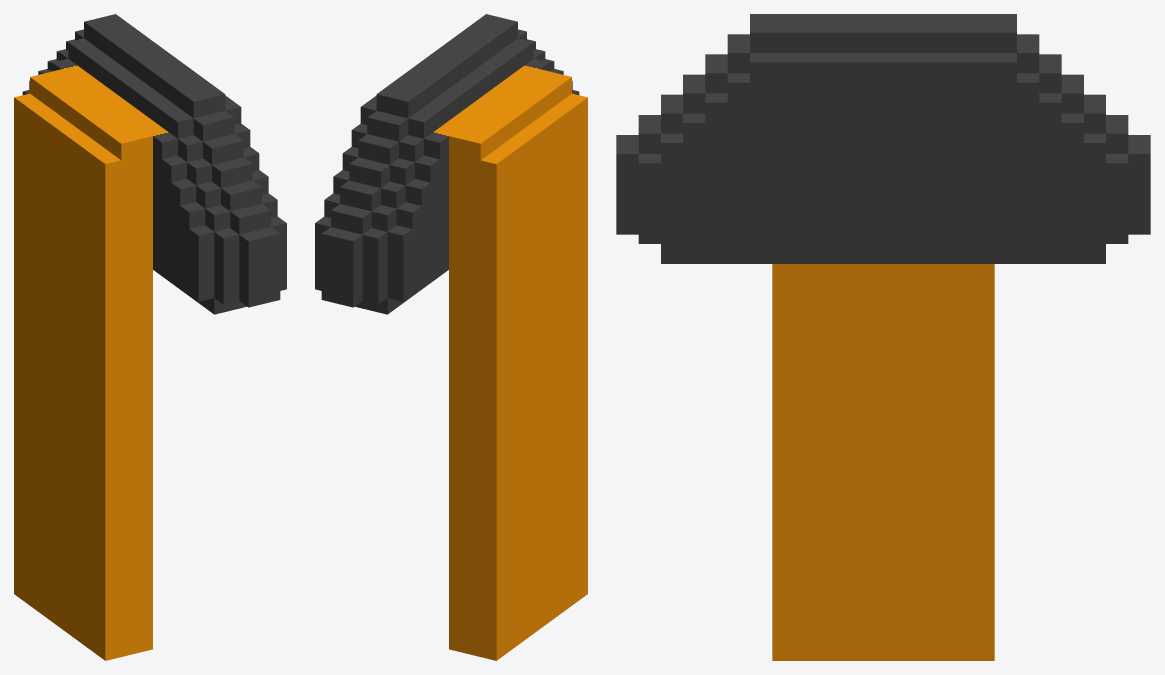
File: Lavafall.dae
The picture shows the model from 3 angles, left to right: view 1: azimuth 30°, elevation 25°; view 2: azimuth 150°, elevation 25°; view 3: azimuth 270°, elevation 25°; orthographic projection. The views are drawn at different scales.
Parts seen in each view (by area): view 1: lavafall.merged; view 2: lavafall.merged; view 3: lavafall.merged.
Boxes of the visible parts, left/top/right/bottom form: lavafall.merged: left=14, top=14, right=286, bottom=660; lavafall.merged: left=315, top=14, right=587, bottom=660; lavafall.merged: left=616, top=14, right=1150, bottom=660.
Bounding box in the file's own units: 0.8 × 3.3 × 2.4.
1 material, 1 textured.
